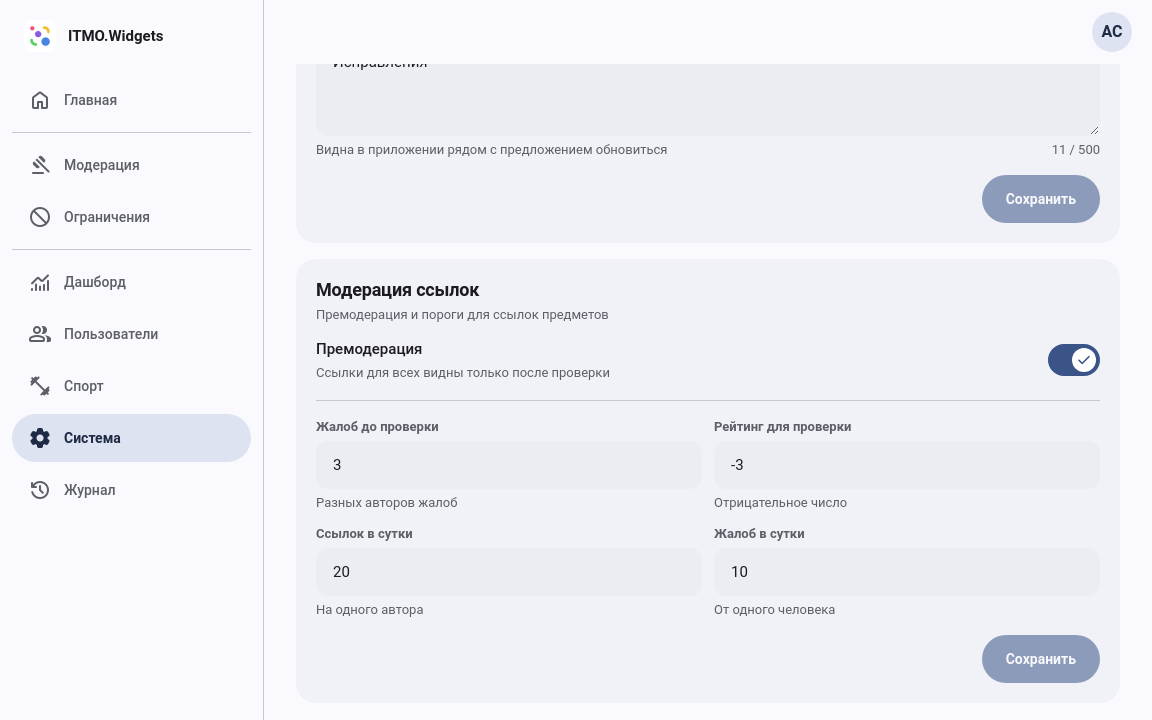
Scenario: SystemPage › turns premoderation off only after confirmation
(page scrolled)
Click the switch named "Премодерация".
click(1074, 360)  # box left=1048, top=344, right=1100, bottom=376
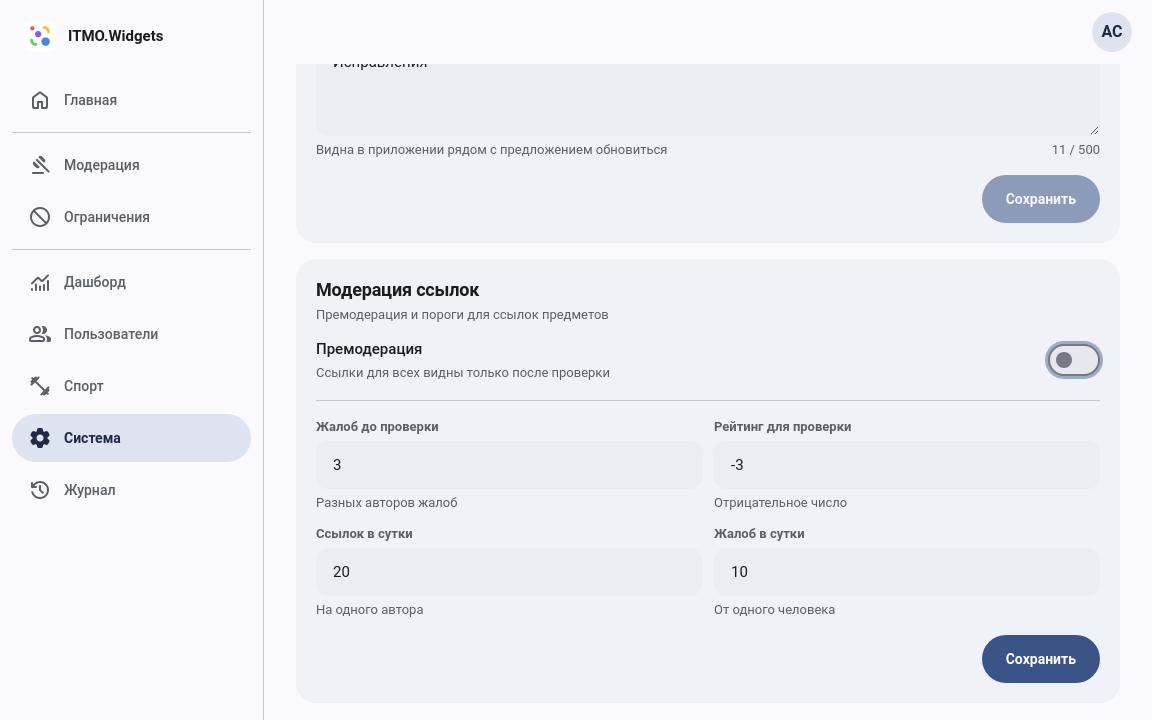
Click the button "Сохранить" below "От одного человека".
click(1041, 659)  # box left=982, top=635, right=1100, bottom=683
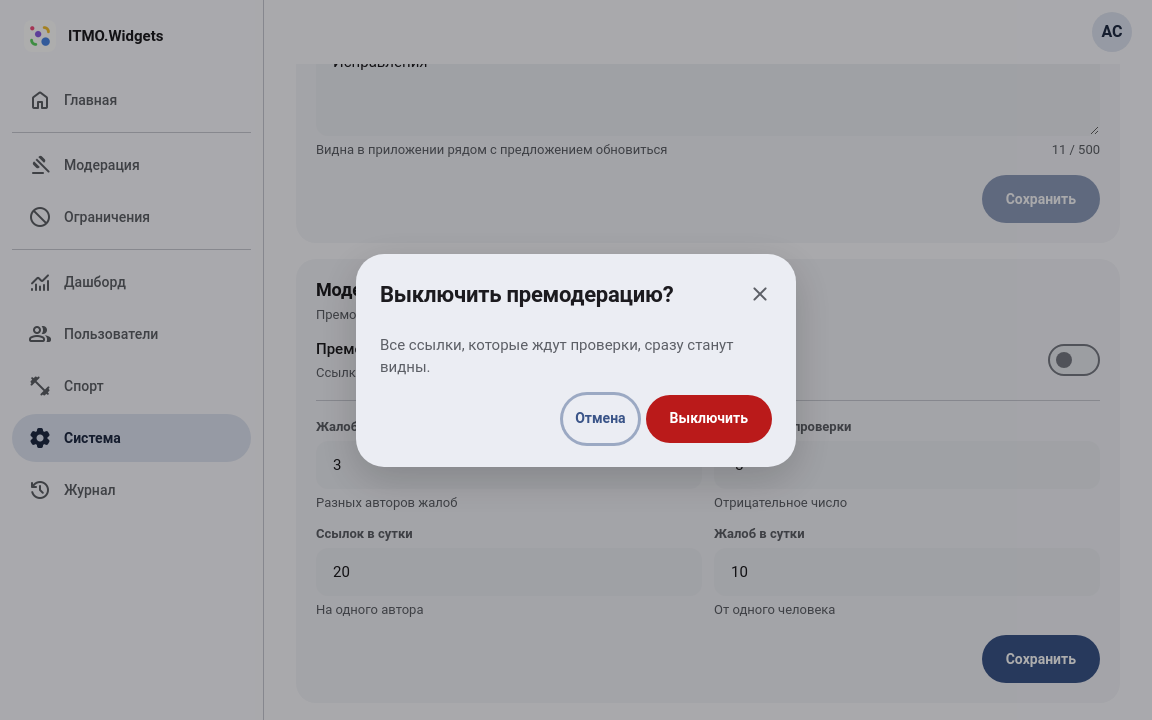
Click the button "Выключить".
click(709, 418)  # box left=646, top=394, right=772, bottom=442
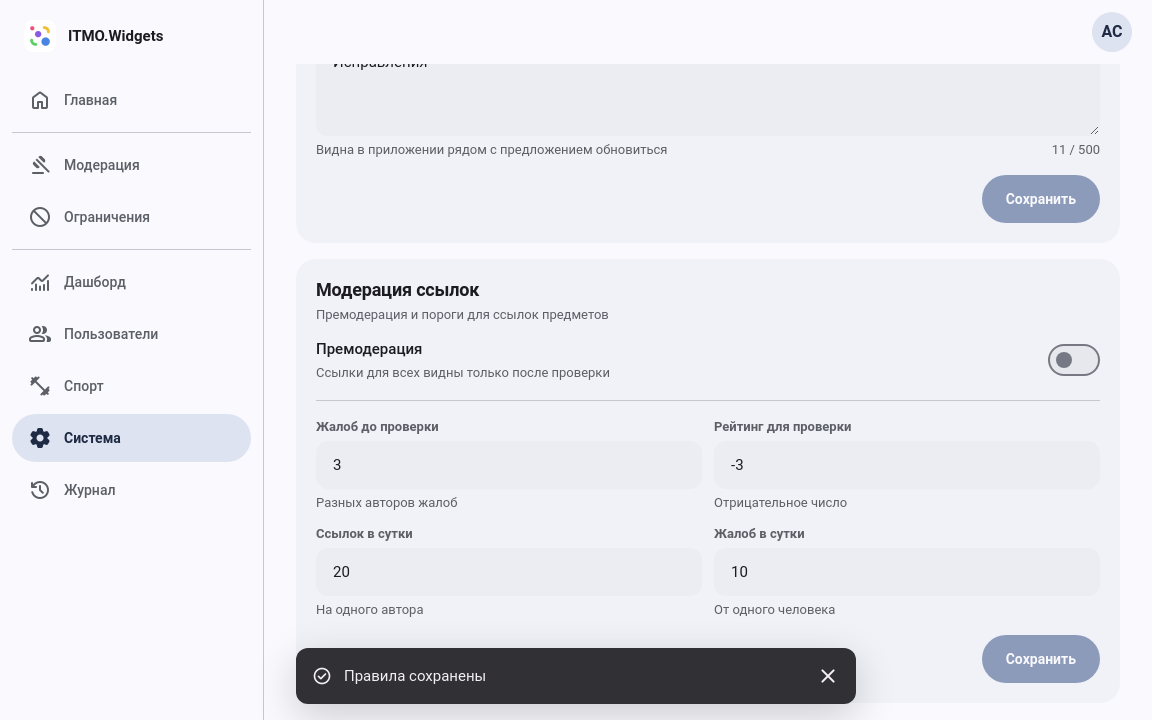
Result: the text "Правила сохранены" is shown at left=344, top=667, right=486, bottom=685
Result: the switch named "Премодерация" is not checked at left=1048, top=344, right=1100, bottom=376
